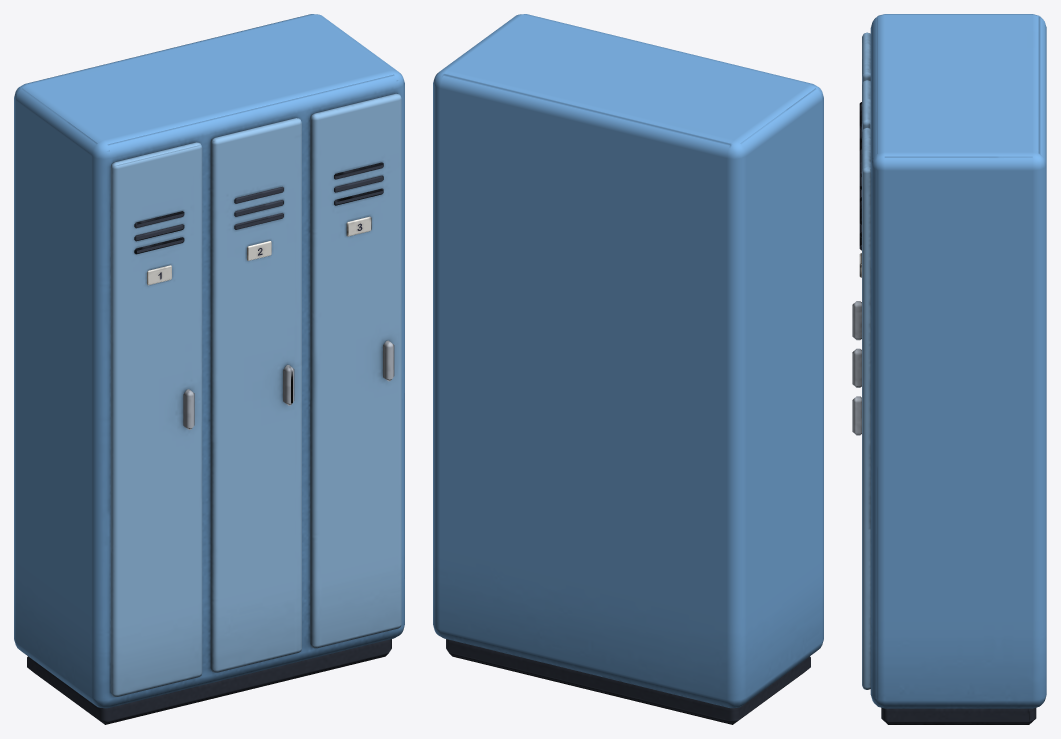
The model's file is locker.glb.
3 views of the same model, side by side, from view 1: azimuth 30°, elevation 25°; view 2: azimuth 150°, elevation 25°; view 3: azimuth 270°, elevation 25° (orthographic). The views are drawn at different scales.
Parts seen in each view (by area): view 1: locker; view 2: locker; view 3: locker.
Boxes of the visible parts, <box> form: locker: <box>14,14,404,724</box>; locker: <box>433,14,823,724</box>; locker: <box>852,14,1046,724</box>.
Size of the model in its own units: 1 by 1.8 by 0.5525.
Materials: 6 (6 with a texture image).
